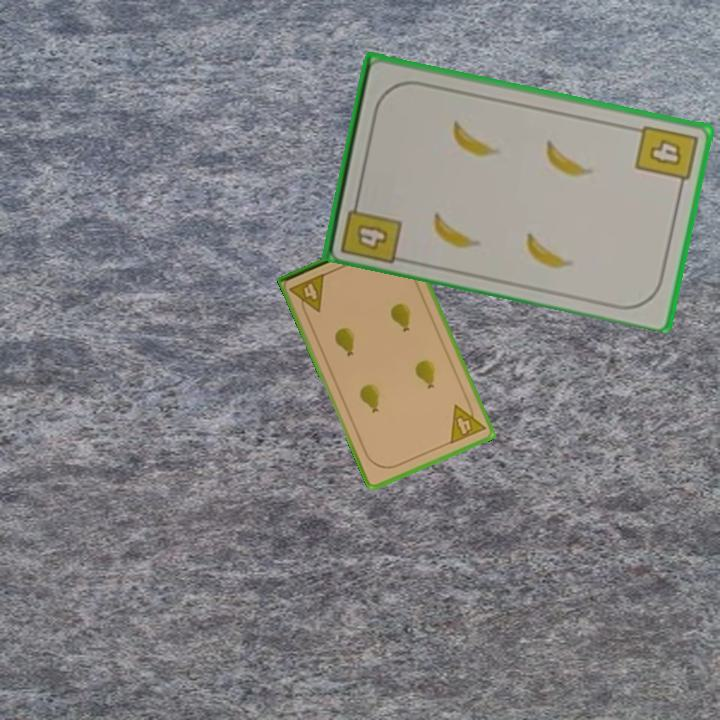4b: (336, 192, 404, 266), (631, 121, 700, 192)
4p: (446, 396, 489, 447), (286, 270, 328, 319)
